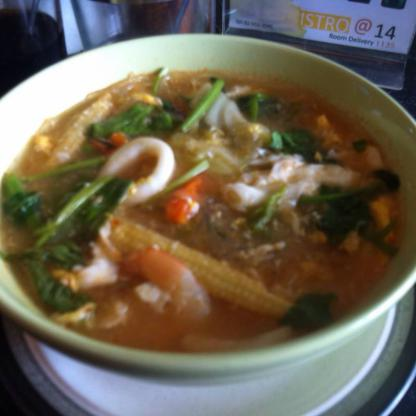Suki: (0, 63, 403, 359)
